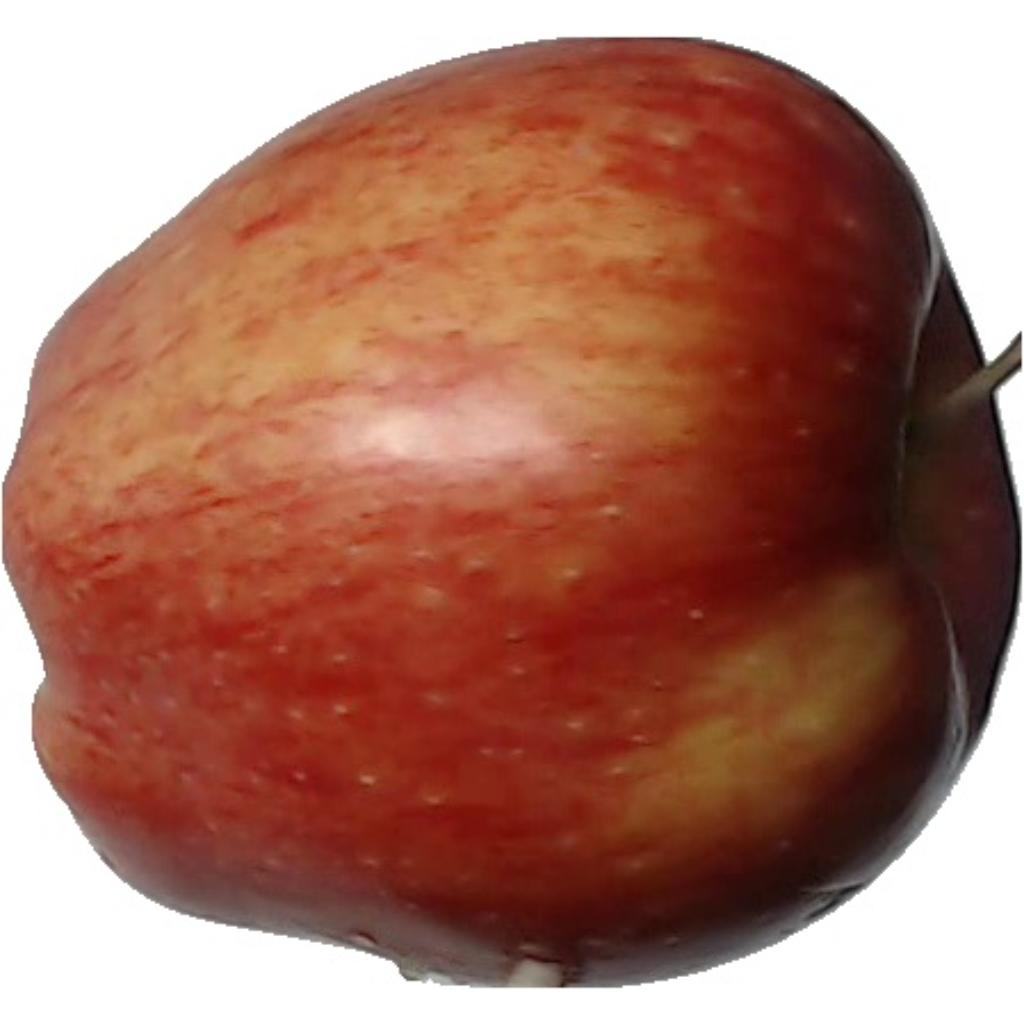apple: (5, 39, 1024, 978)
